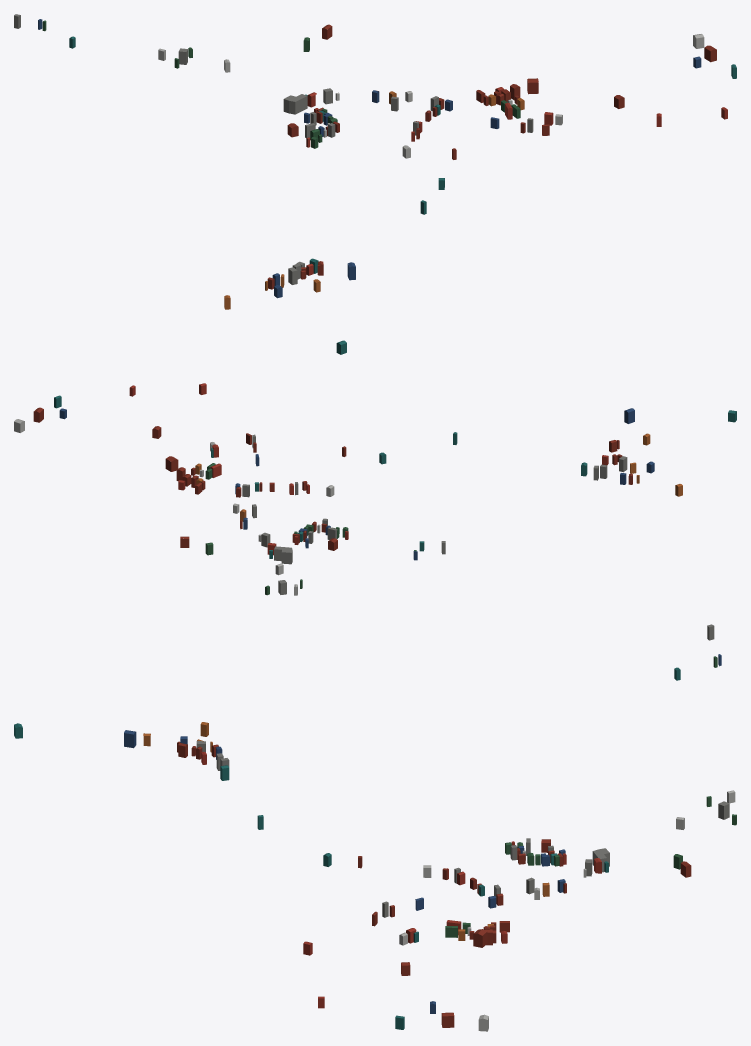
The model's file is near-15-27351-14866.80c08b7b.glb.
The picture shows the model from 3 angles, top to bottom: view 1: azimuth 30°, elevation 25°; view 2: azimuth 150°, elevation 25°; view 3: azimuth 270°, elevation 25°; orthographic projection. The views are drawn at different scales.
Size of the model in its own units: 1182 by 212 by 1132.
